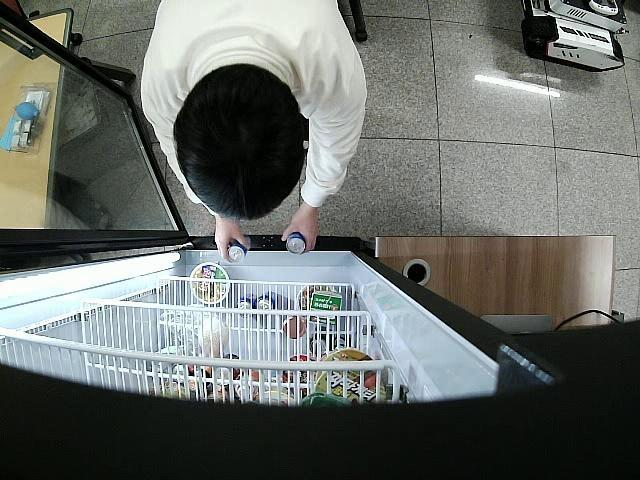15_letsbe: (228, 236, 251, 262), (286, 231, 307, 254)
